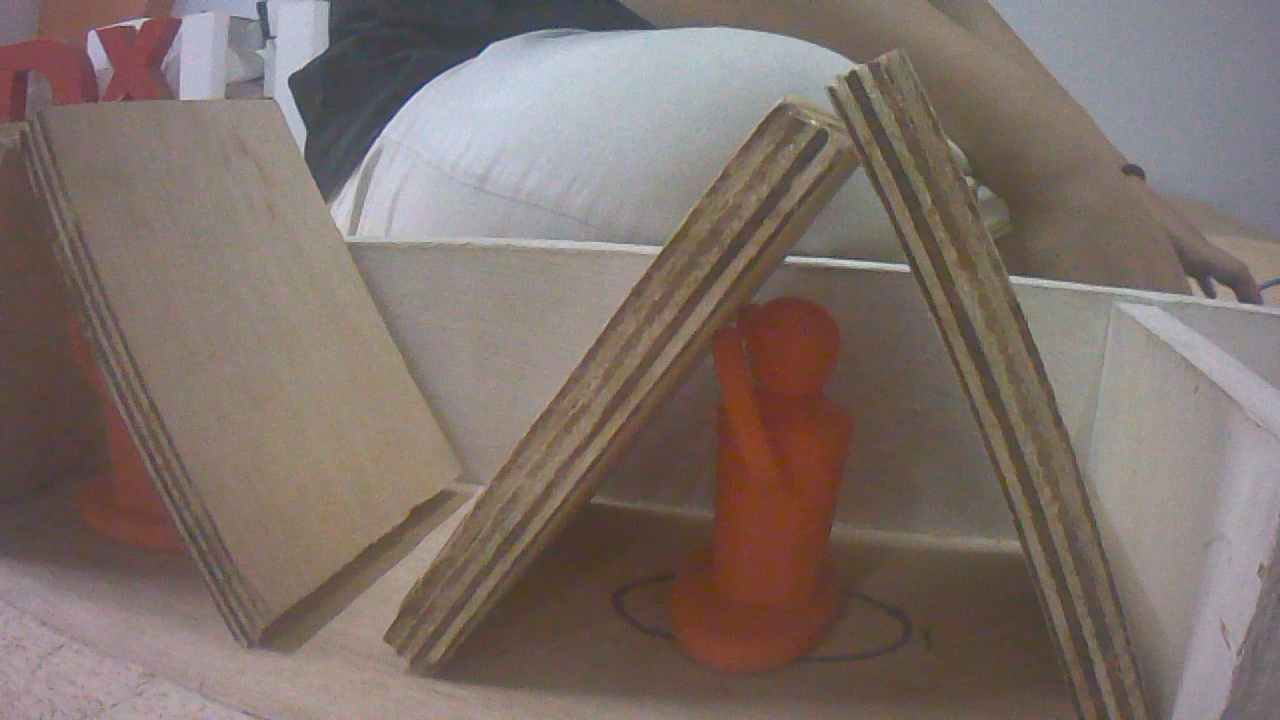real: (682, 277, 868, 661)
